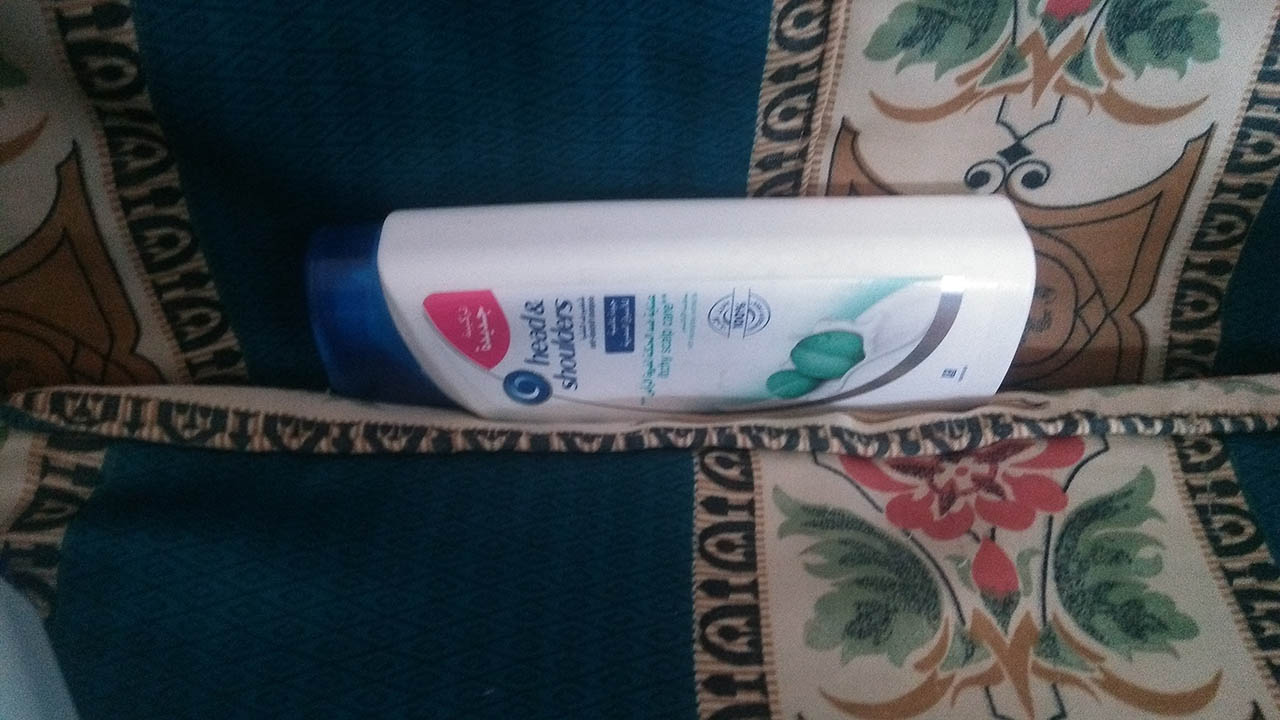shampoo-green 4.5$: (272, 168, 1095, 434)
